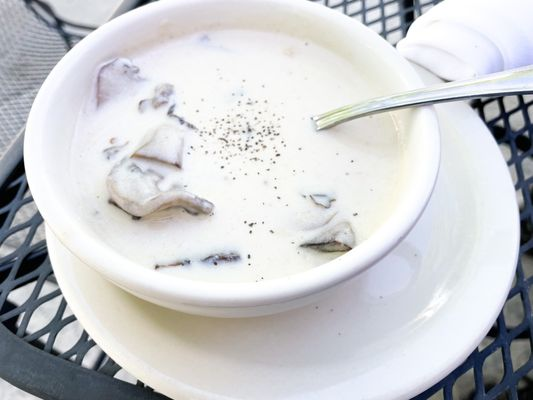sushi: (19, 5, 443, 317)
